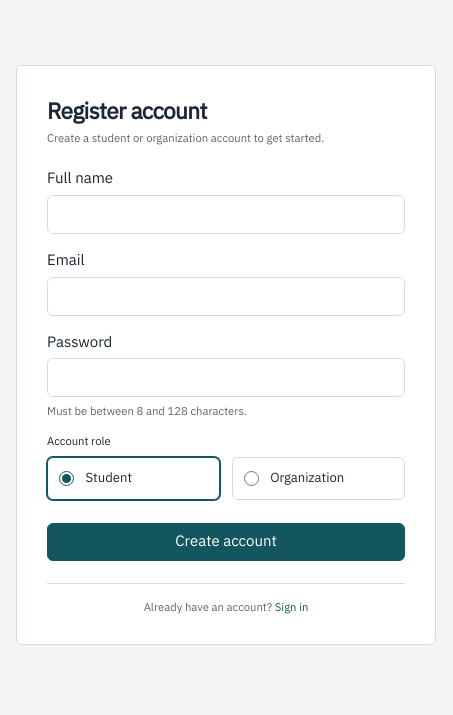
Test: RegisterPage Component › shows required organization name field when Organization role is chosen and validates it
Expected: the field labelled "Organization name" is not shown
Expected: the radio button labelled "Student" is checked, [59,471,74,486]
Select Organization role
Click the radio button labelled "Organization".
click(251, 479)  # box [244,471,259,486]
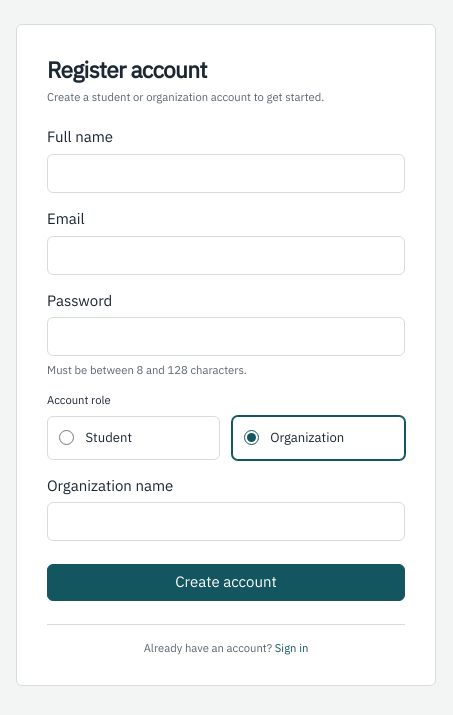
Now the radio button labelled "Organization" is checked, box [244,430,259,445]
Now the radio button labelled "Student" is not checked, box [59,430,74,445]
Now the field labelled "Organization name" is shown, box [47,502,405,541]
Attempt submission without organization name
Type "Jane Doe" into the field labelled "Full name".
click(226, 174); type("Jane Doe")  # box [47,154,405,193]
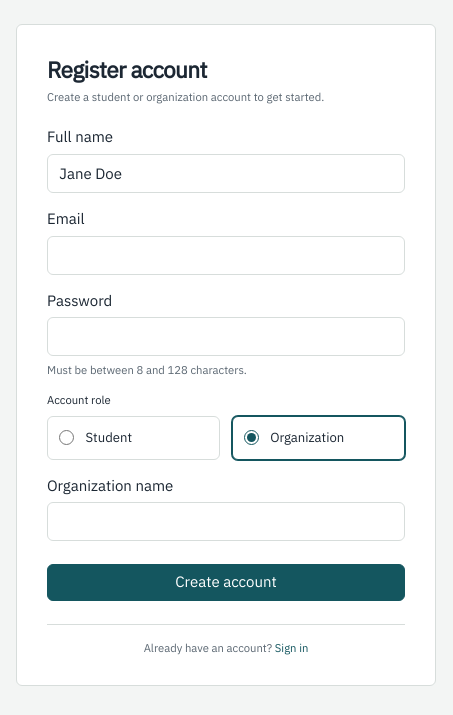
Type "jane@example.com" into the field labelled "Email".
click(226, 255); type("jane@example.com")  # box [47,236,405,275]
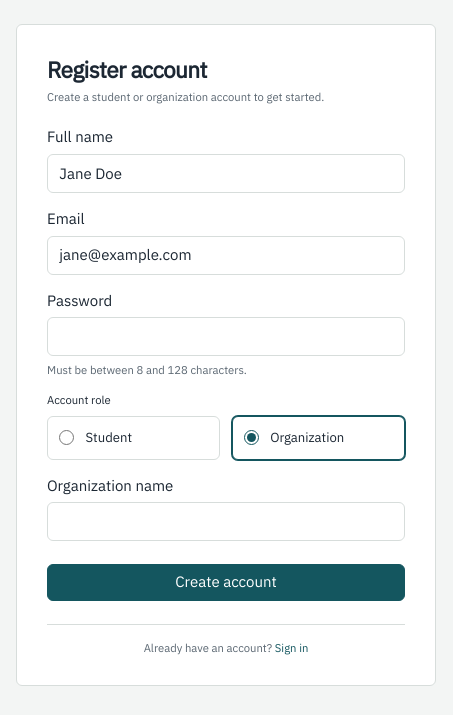
Type "Password123!" into the password field labelled "Password".
click(226, 337); type("Password123!")  # box [47,317,405,356]
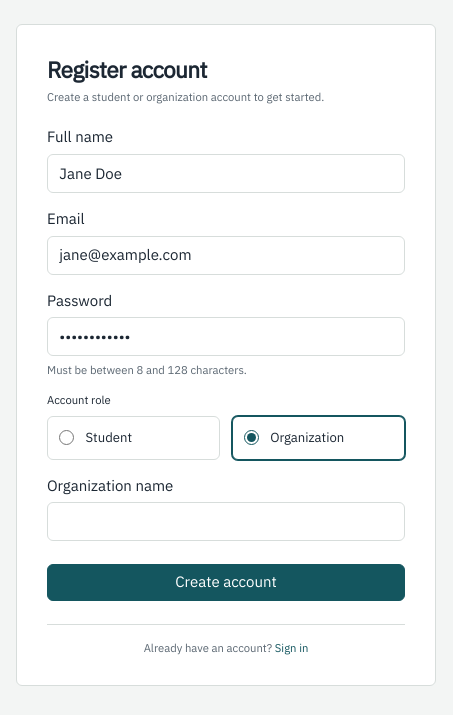
Click the button "Create account".
click(226, 582)  # box [47,564,405,601]
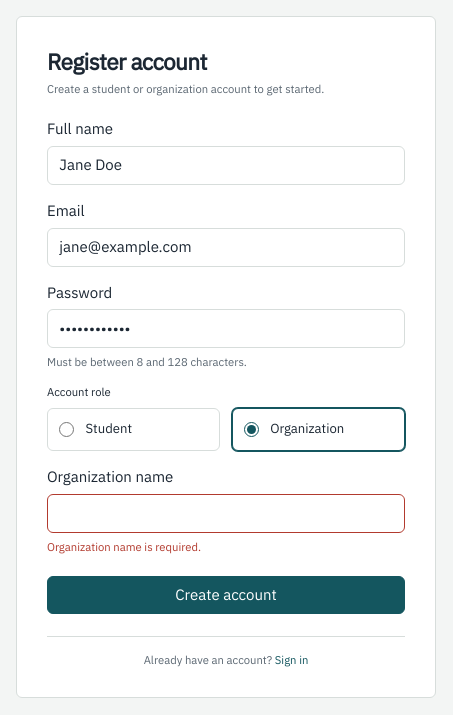
Now the text "Organization name is required." is shown, box [47,539,201,554]
